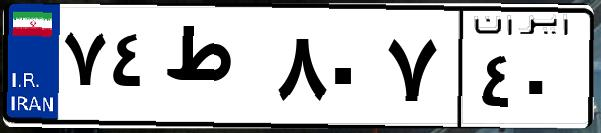0: (330, 28, 385, 110), (525, 38, 570, 115)
4: (475, 38, 525, 113), (110, 28, 158, 98)
7: (385, 28, 445, 110), (57, 26, 110, 100)
8: (270, 28, 330, 110)
ط: (158, 20, 270, 120)
